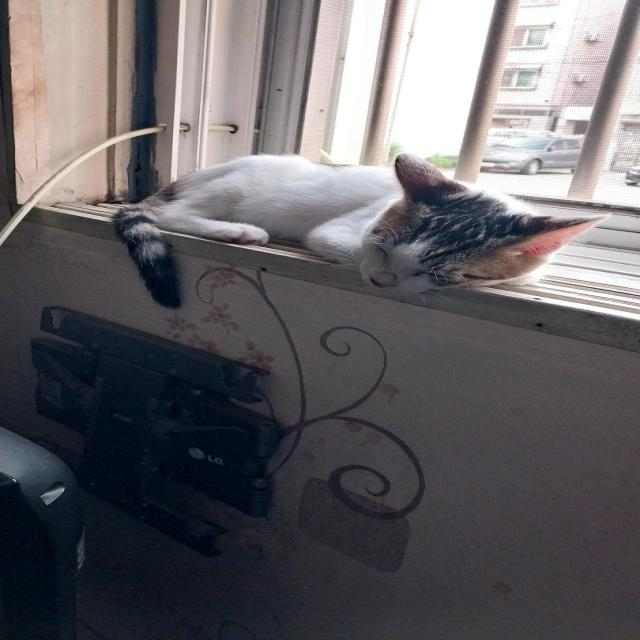cat: (119, 151, 610, 310)
